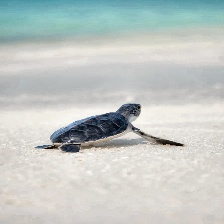seaturtle: (46, 103, 184, 152)
